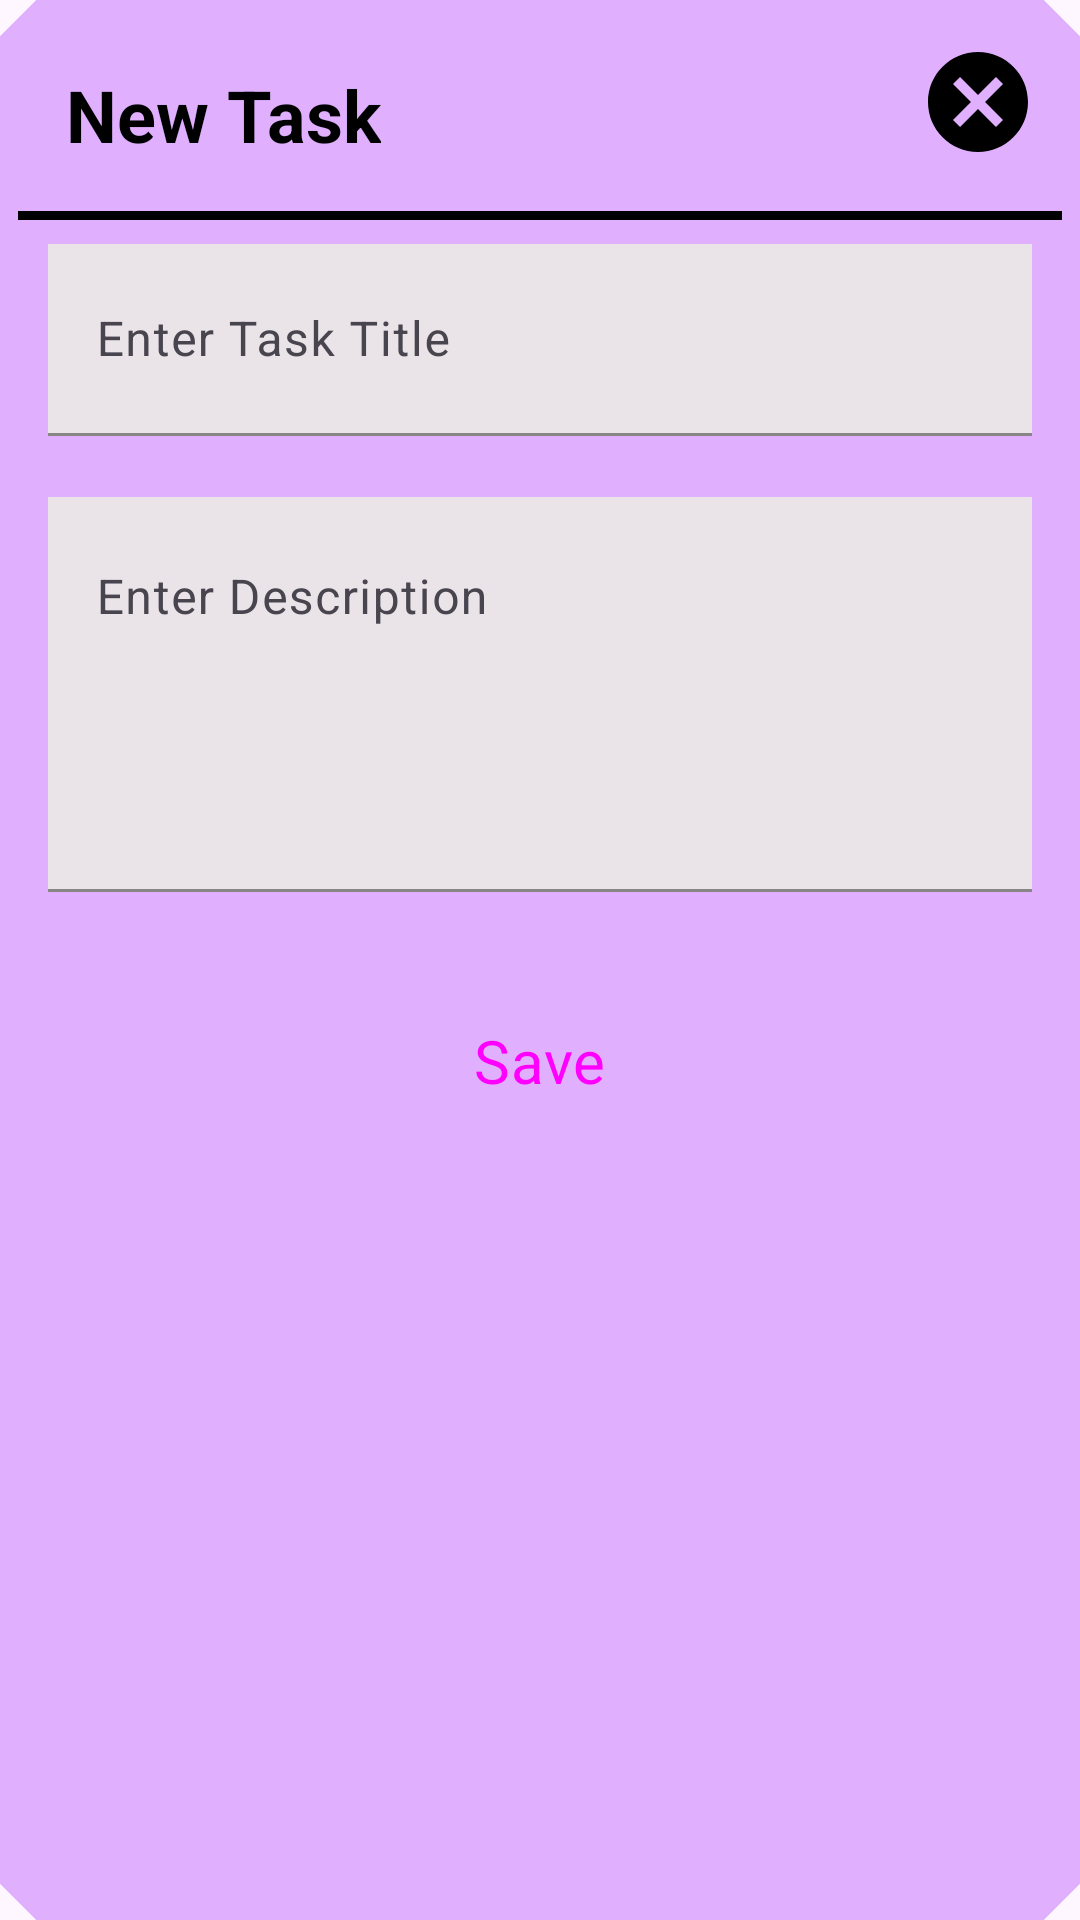

Where icons sit on this 1080w x 1920h app screen, as (x1, y1, x2, y2):
close: (928, 52, 1028, 152)
